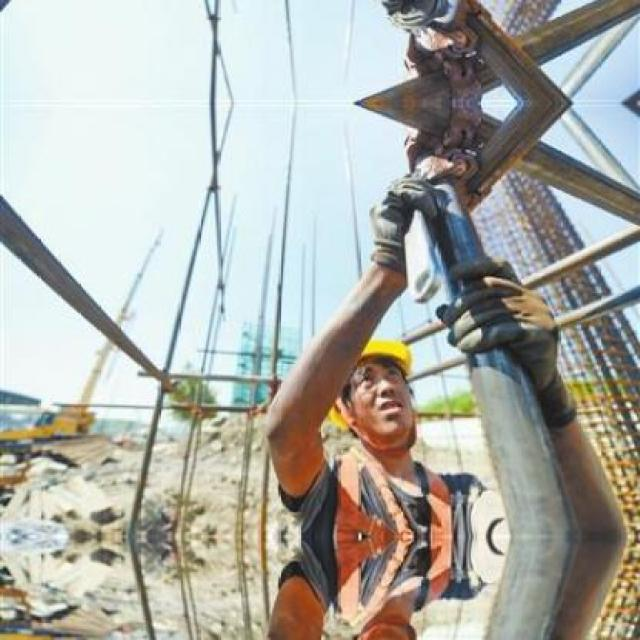helmet: (336, 318, 424, 458)
